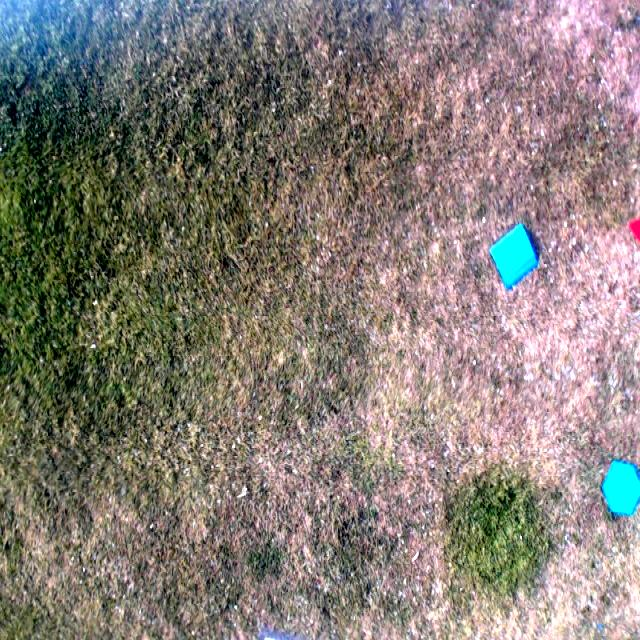blue_hexagon: (603, 461, 639, 516)
blue_square: (489, 224, 539, 288)
